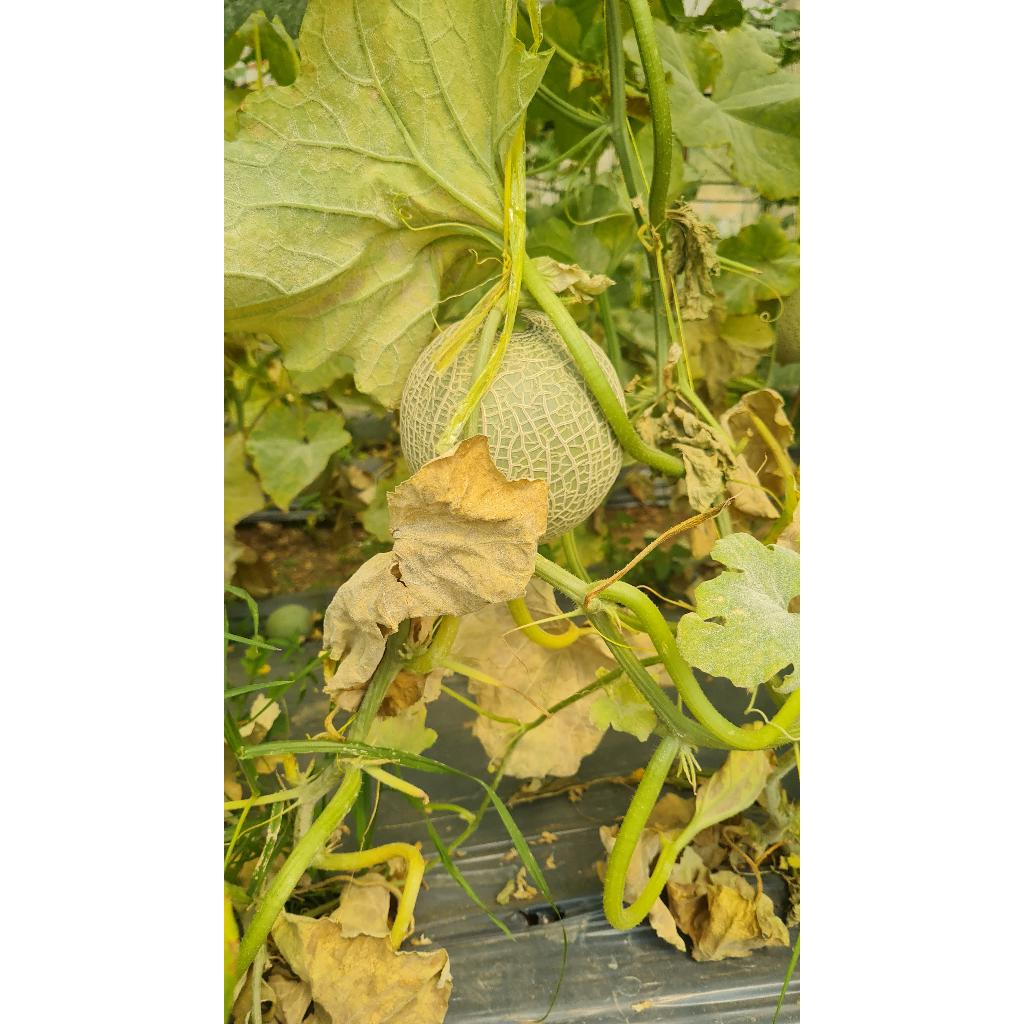melon: (478, 310, 622, 542), (400, 324, 478, 474)
